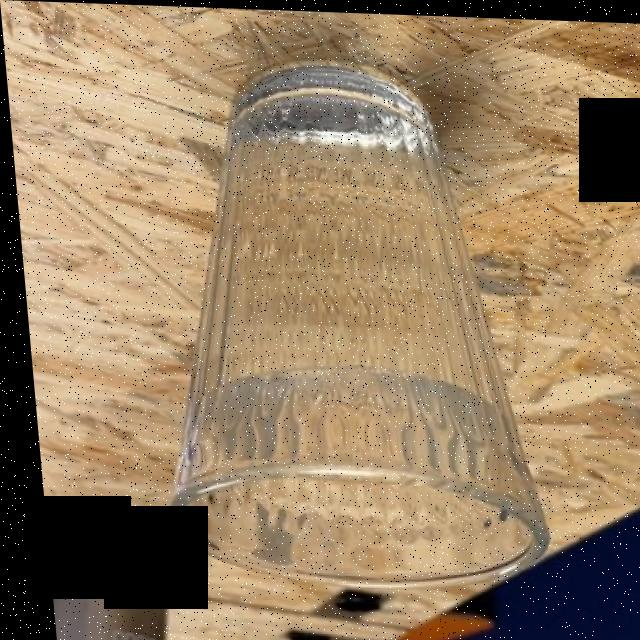water: (175, 103, 527, 583)
